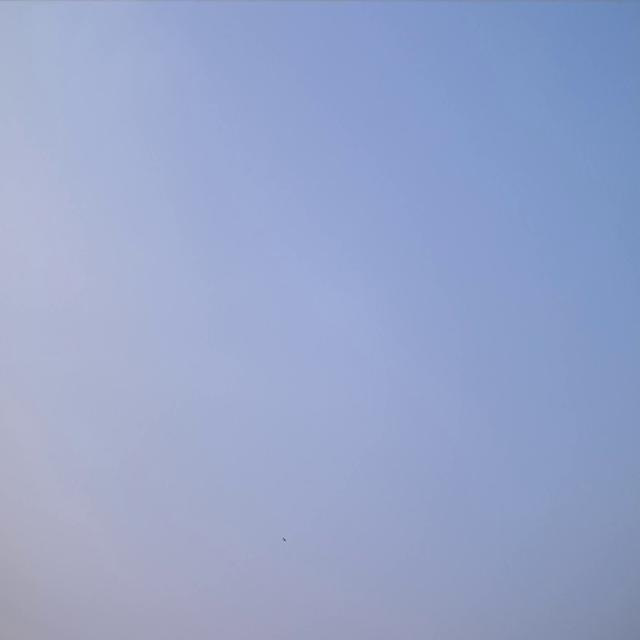UAV: (282, 537, 286, 542)
